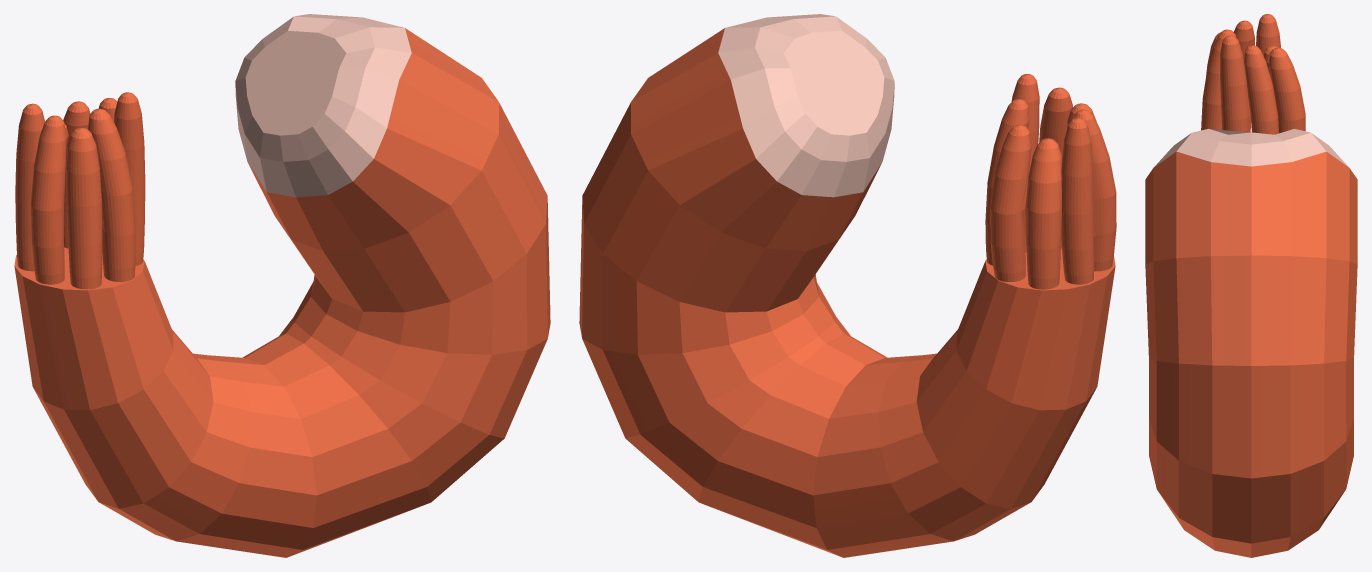
File: Shrimp.fbx
3 renders of one model, left to right at view 1: azimuth 30°, elevation 25°; view 2: azimuth 150°, elevation 25°; view 3: azimuth 270°, elevation 25°, orthographic. The views are drawn at different scales.
Parts seen in each view (by area): view 1: Shrimp; view 2: Shrimp; view 3: Shrimp.
Part boxes in pixels (box(x1,y1,x2,y2)): Shrimp: box(14, 14, 550, 557); Shrimp: box(579, 14, 1116, 557); Shrimp: box(1145, 14, 1357, 557).
Size of the model in its own units: 29.6 by 27.82 by 12.7.
